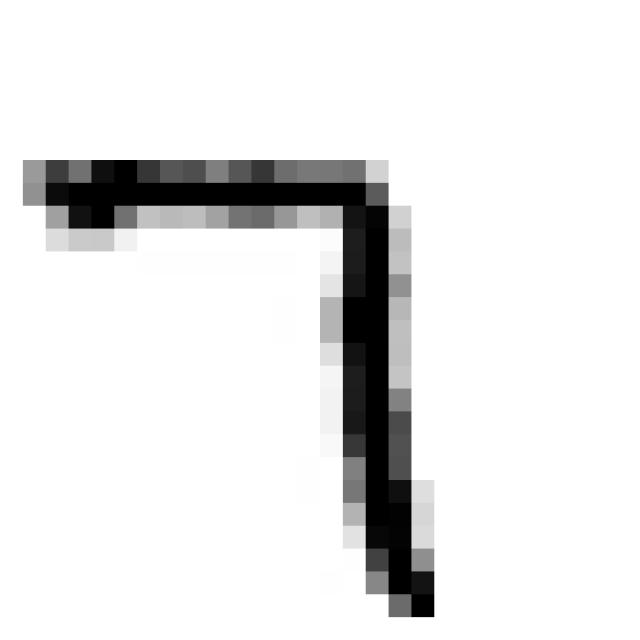6 -six-: (16, 137, 447, 639)
